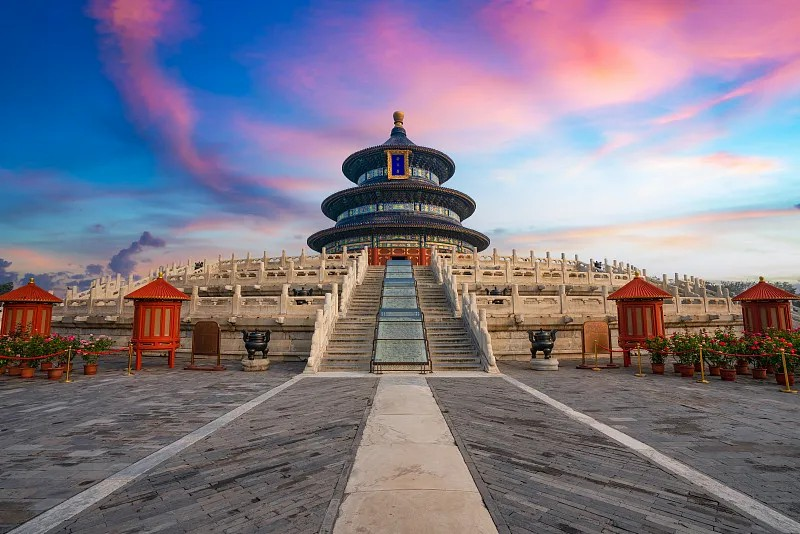Heaven: (305, 109, 490, 265)
